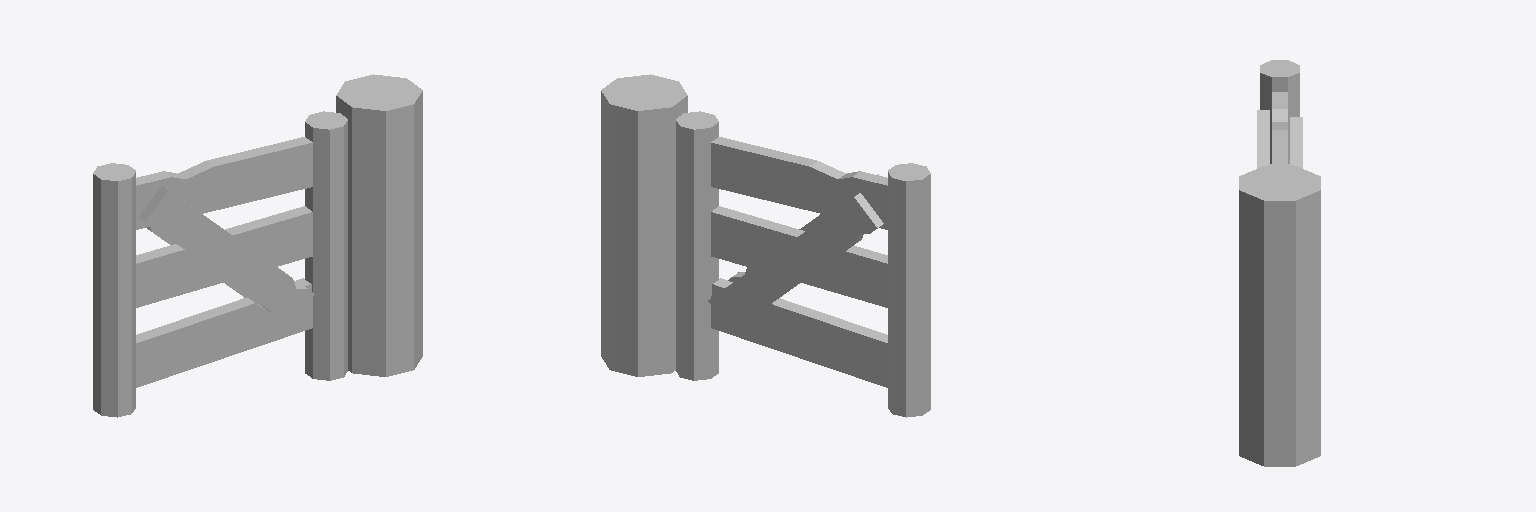
Rendered from Prop_Fence_Gate_1.obj.
The picture shows the model from 3 angles: view 1: azimuth 30°, elevation 25°; view 2: azimuth 150°, elevation 25°; view 3: azimuth 270°, elevation 25°; orthographic projection.
Parts seen in each view (by area): view 1: object1, object8, object2, object7, object5, object6, object3; view 2: object1, object8, object2, object5, object7, object4, object3; view 3: object1, object8, object5, object6, object4.
Boxes of the visible parts, <box> form: object1: <box>336,74,422,376</box>; object8: <box>93,163,135,417</box>; object2: <box>305,111,347,380</box>; object7: <box>136,278,312,387</box>; object5: <box>136,137,312,229</box>; object6: <box>139,186,314,324</box>; object3: <box>136,206,312,307</box>; object1: <box>601,74,687,376</box>; object8: <box>888,163,930,417</box>; object2: <box>676,111,718,380</box>; object5: <box>711,137,887,229</box>; object7: <box>711,278,887,387</box>; object4: <box>708,193,883,331</box>; object3: <box>711,206,887,307</box>; object1: <box>1239,166,1320,466</box>; object8: <box>1260,60,1299,163</box>; object5: <box>1272,92,1287,163</box>; object6: <box>1257,110,1269,168</box>; object4: <box>1290,117,1302,168</box>.
Size of the model in its own units: 1.12 by 0.9 by 0.25.